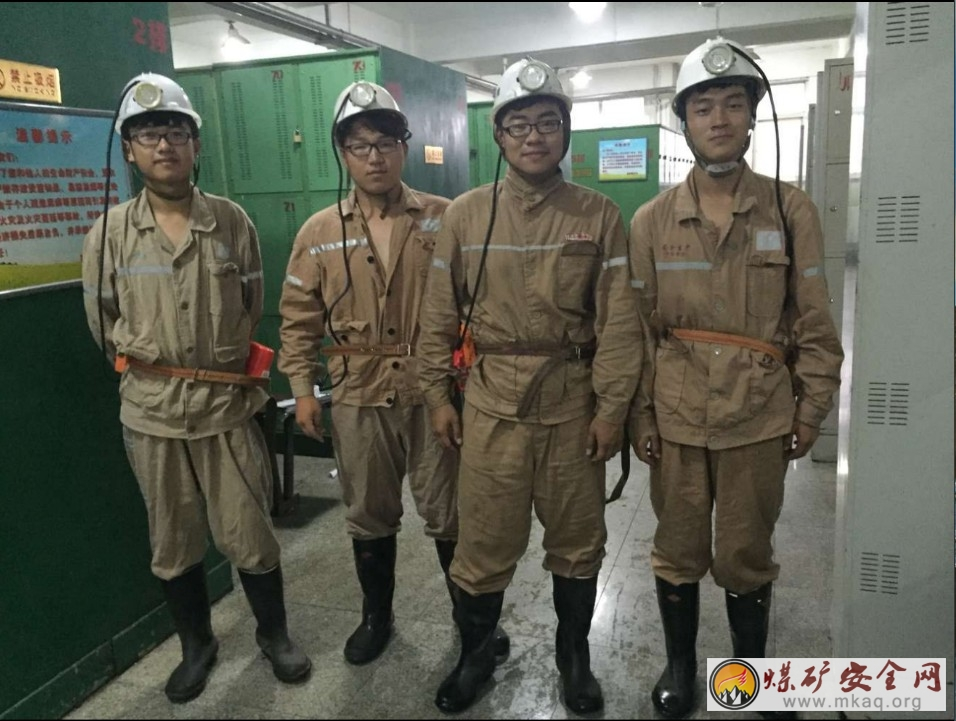helmet: (109, 68, 233, 198), (668, 43, 776, 178), (324, 85, 425, 211), (488, 54, 581, 179)
